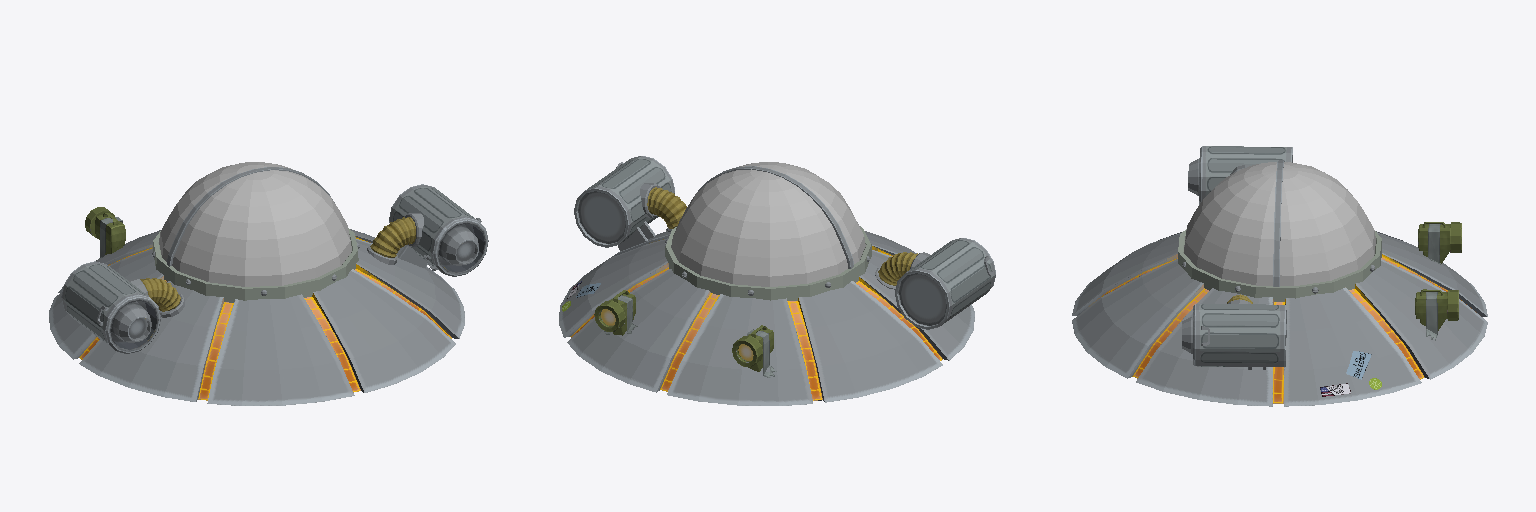
The picture shows the model from 3 angles: view 1: azimuth 30°, elevation 25°; view 2: azimuth 150°, elevation 25°; view 3: azimuth 270°, elevation 25°; orthographic projection.
Parts seen in each view (by area): view 1: base, glass_alfa_diffuse; view 2: base, glass_alfa_diffuse; view 3: base, glass_alfa_diffuse.
Part boxes in pixels (x1,y1,x2,y2): base: (49,167,488,405); glass_alfa_diffuse: (159,162,351,286); base: (559,156,995,405); glass_alfa_diffuse: (671,162,865,286); base: (1072,146,1487,406); glass_alfa_diffuse: (1184,162,1375,285).
Bounding box in the file's own units: 4693 × 2011 × 4419.
Materials: 2 (1 with a texture image).